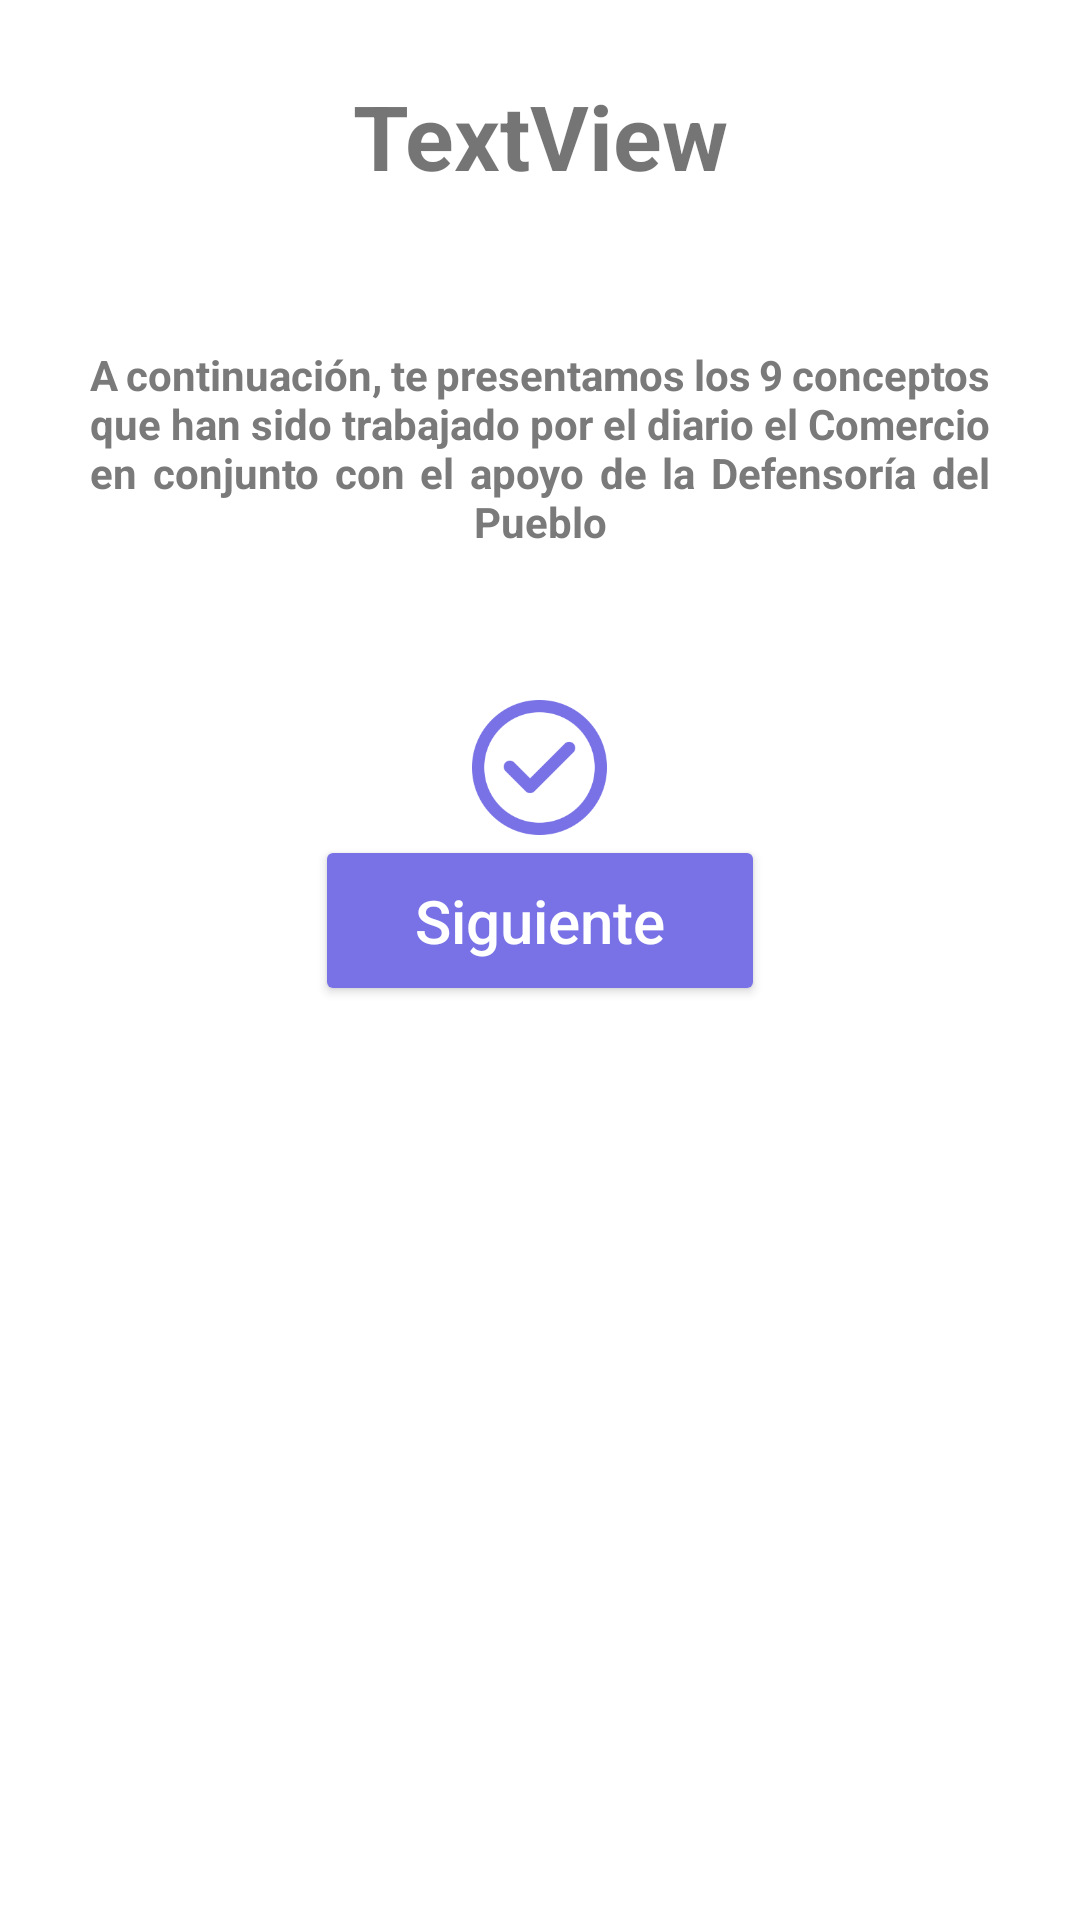

Point at icon controls on the screen. Image size 1080 × 1920, points as (x=x, y=y).
guide check: (x=539, y=767)
